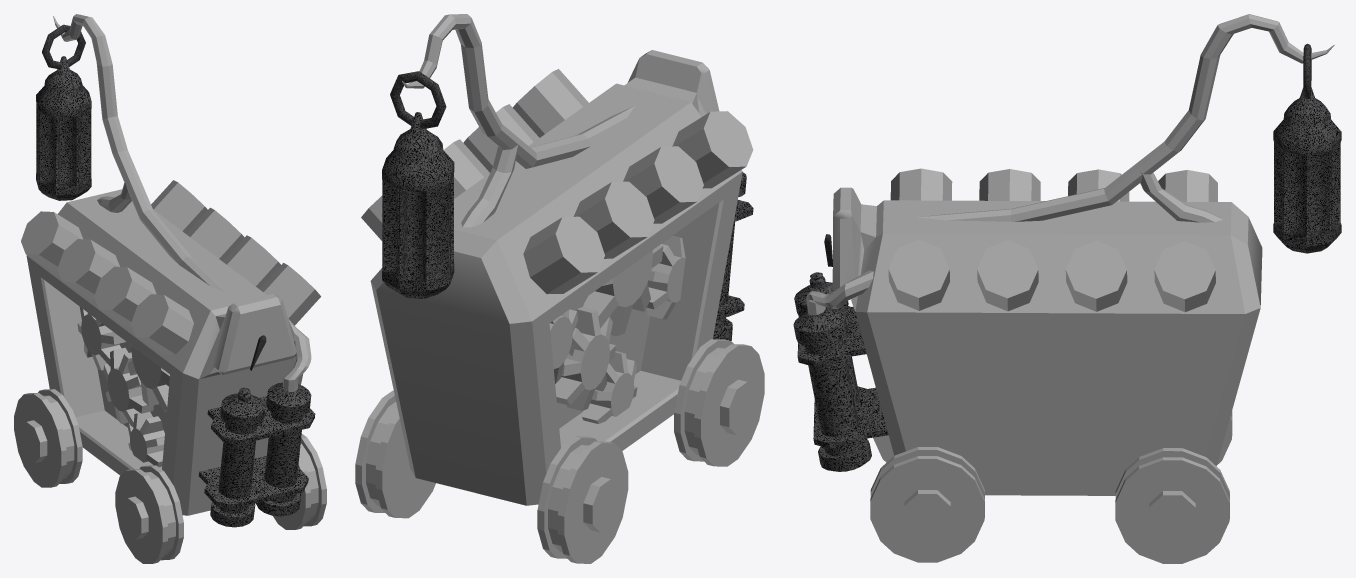
Rendered from Cart 2.fbx.
The picture shows the model from 3 angles, left to right: view 1: azimuth 30°, elevation 25°; view 2: azimuth 150°, elevation 25°; view 3: azimuth 270°, elevation 25°; orthographic projection. The views are drawn at different scales.
Parts seen in each view (by area): view 1: pCube3, Fuel_Cell1, Front_Wheels1, Lantern_Gauge, Front_Wheels, pCylinder44, pCylinder49, pCylinder47, pCylinder26, pCylinder48, pCylinder42, pCylinder53 (+9 smaller); view 2: pCube3, Front_Wheels, Lantern_Gauge, Front_Wheels1, pCylinder44, pCylinder26, pCylinder49, pCylinder47, pCylinder48, pCylinder42, pCylinder40, pCylinder53 (+9 smaller); view 3: pCube3, Front_Wheels1, Front_Wheels, Fuel_Cell1, Lantern_Gauge, pCylinder44, pCylinder52, pCylinder51, pCylinder53, pCylinder50, pCylinder49, pCylinder47 (+4 smaller).
Boxes of the visible parts, x1=… form: pCube3: x1=26, y1=189, x2=302, y2=515; Fuel_Cell1: x1=198, y1=382, x2=315, y2=527; Front_Wheels1: x1=115, y1=433, x2=326, y2=563; Lantern_Gauge: x1=36, y1=56, x2=91, y2=200; Front_Wheels: x1=14, y1=389, x2=82, y2=487; pCylinder44: x1=53, y1=14, x2=226, y2=293; pCylinder49: x1=131, y1=294, x2=193, y2=354; pCylinder47: x1=94, y1=266, x2=156, y2=326; pCylinder26: x1=21, y1=211, x2=82, y2=271; pCylinder48: x1=57, y1=239, x2=119, y2=298; pCylinder42: x1=103, y1=347, x2=153, y2=426; pCylinder53: x1=259, y1=263, x2=320, y2=325; pCube3: x1=370, y1=50, x2=742, y2=505; Front_Wheels: x1=355, y1=390, x2=628, y2=563; Lantern_Gauge: x1=382, y1=112, x2=454, y2=298; Front_Wheels1: x1=674, y1=339, x2=764, y2=466; pCylinder44: x1=402, y1=14, x2=635, y2=168; pCylinder26: x1=523, y1=216, x2=604, y2=294; pCylinder49: x1=672, y1=111, x2=753, y2=188; pCylinder47: x1=623, y1=146, x2=703, y2=223; pCylinder48: x1=573, y1=181, x2=654, y2=258; pCylinder42: x1=555, y1=307, x2=615, y2=410; pCylinder40: x1=583, y1=245, x2=663, y2=336; pCylinder53: x1=513, y1=69, x2=588, y2=137; pCube3: x1=832, y1=187, x2=1262, y2=495; Front_Wheels1: x1=870, y1=435, x2=984, y2=562; Front_Wheels: x1=1115, y1=410, x2=1232, y2=563; Fuel_Cell1: x1=793, y1=272, x2=888, y2=471; Lantern_Gauge: x1=1273, y1=86, x2=1341, y2=253; pCylinder44: x1=916, y1=14, x2=1334, y2=221; pCylinder52: x1=977, y1=240, x2=1038, y2=311; pCylinder51: x1=1065, y1=240, x2=1127, y2=311; pCylinder53: x1=888, y1=240, x2=949, y2=310; pCylinder50: x1=1154, y1=241, x2=1215, y2=312; pCylinder49: x1=890, y1=168, x2=952, y2=200; pCylinder47: x1=979, y1=169, x2=1040, y2=200.
Size of the model in its own units: 0.5625 by 1.25 by 1.24.
